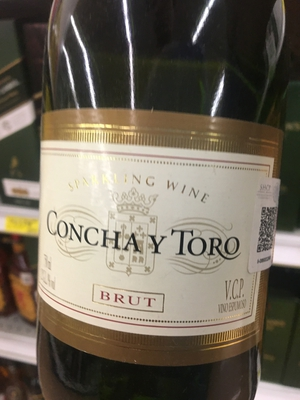brut: (33, 6, 292, 400)
